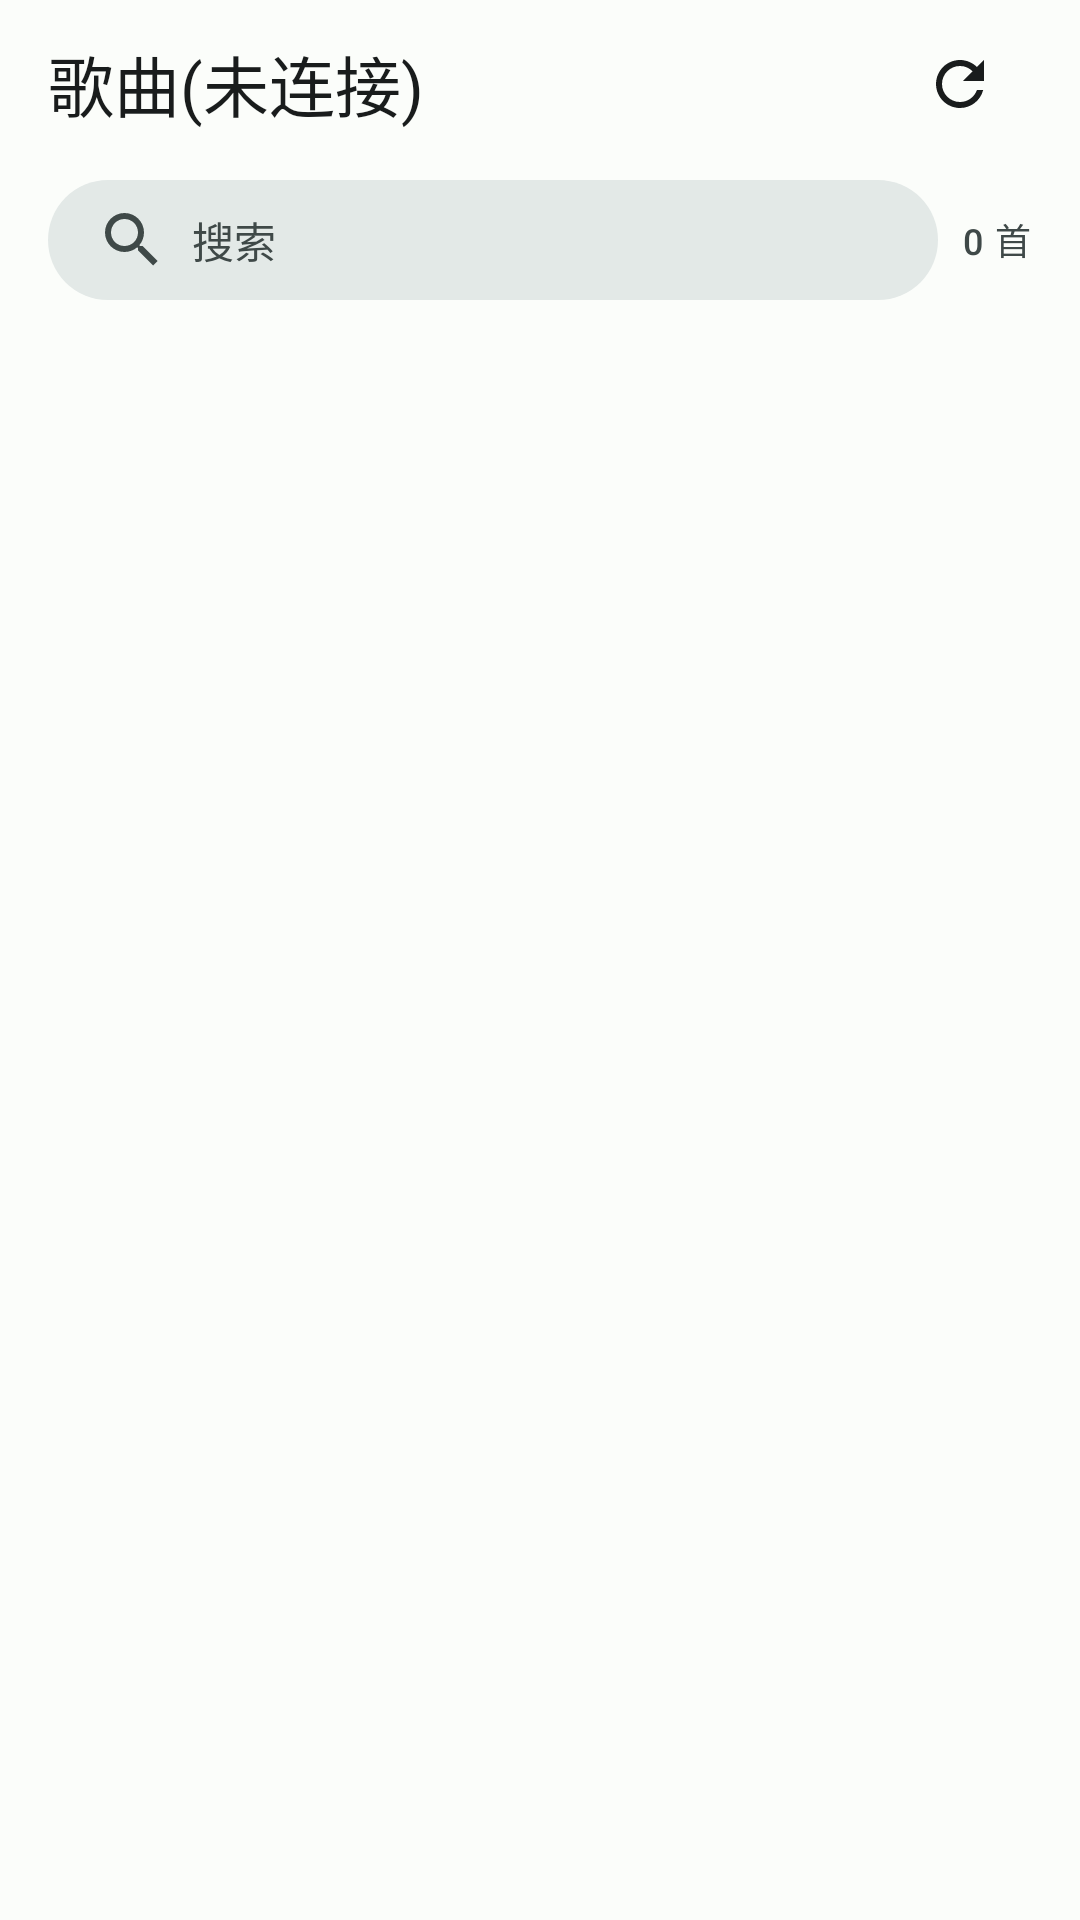

Locate icon controls on the screen. Image size 1080*1920, boxes as (x1, y1, x2, y2).
刷新: (936, 60, 984, 108)
